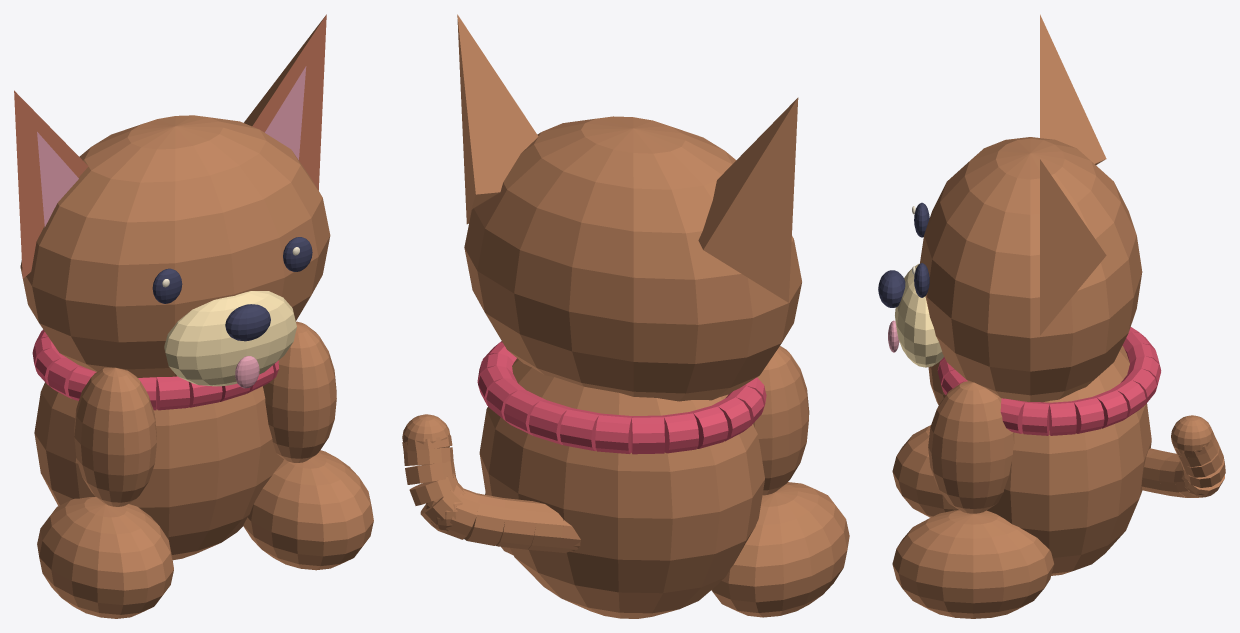
The model's file is chihuahua-plushie.glb.
The picture shows the model from 3 angles, left to right: view 1: azimuth 30°, elevation 25°; view 2: azimuth 150°, elevation 25°; view 3: azimuth 270°, elevation 25°; orthographic projection. The views are drawn at different scales.
Visible parts, largest first — view 1: chihuahua-plushie; view 2: chihuahua-plushie; view 3: chihuahua-plushie.
Part boxes in pixels (x1,y1,x2,y2): chihuahua-plushie: [14, 14, 373, 618]; chihuahua-plushie: [402, 14, 849, 618]; chihuahua-plushie: [878, 14, 1225, 618].
Bounding box in the file's own units: 0.72 × 1.12 × 0.7305.
